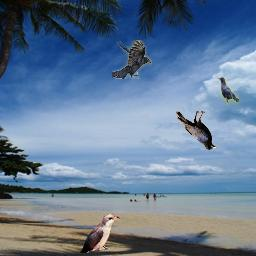Crow: (176, 111, 216, 151), (112, 40, 152, 79), (218, 77, 239, 105)
Cuckoo: (80, 214, 120, 253)
